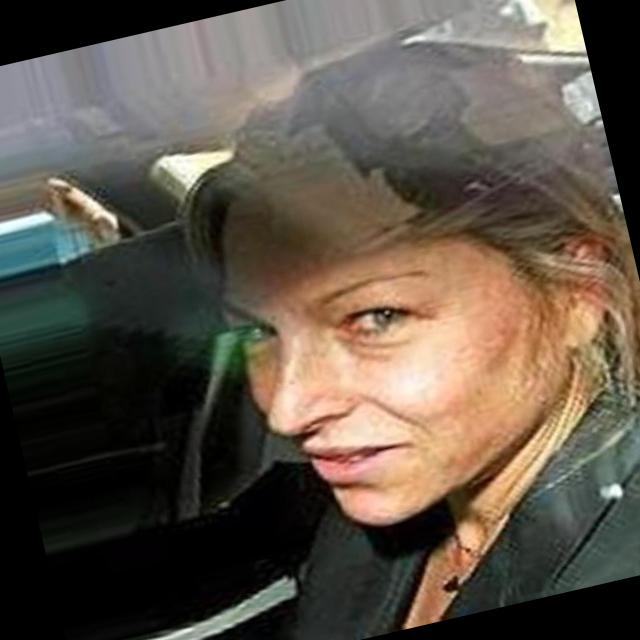bareface: (160, 49, 640, 559)
